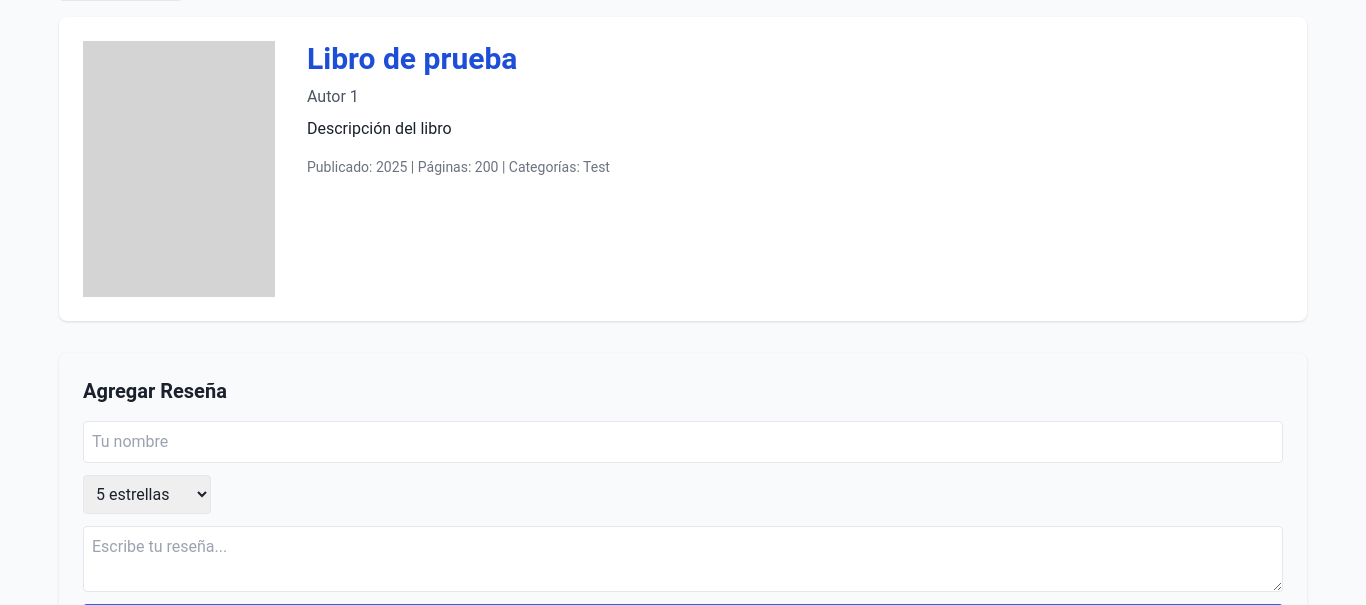
Test: BookPage reseñas › permite dar like a una reseña
The width and height of the screenshot is (1366, 605).
// Agregar reseña
Type "Ana" into the field with placeholder "Tu nombre" at (683, 442), box x1=83 y1=421 x2=1283 y2=463
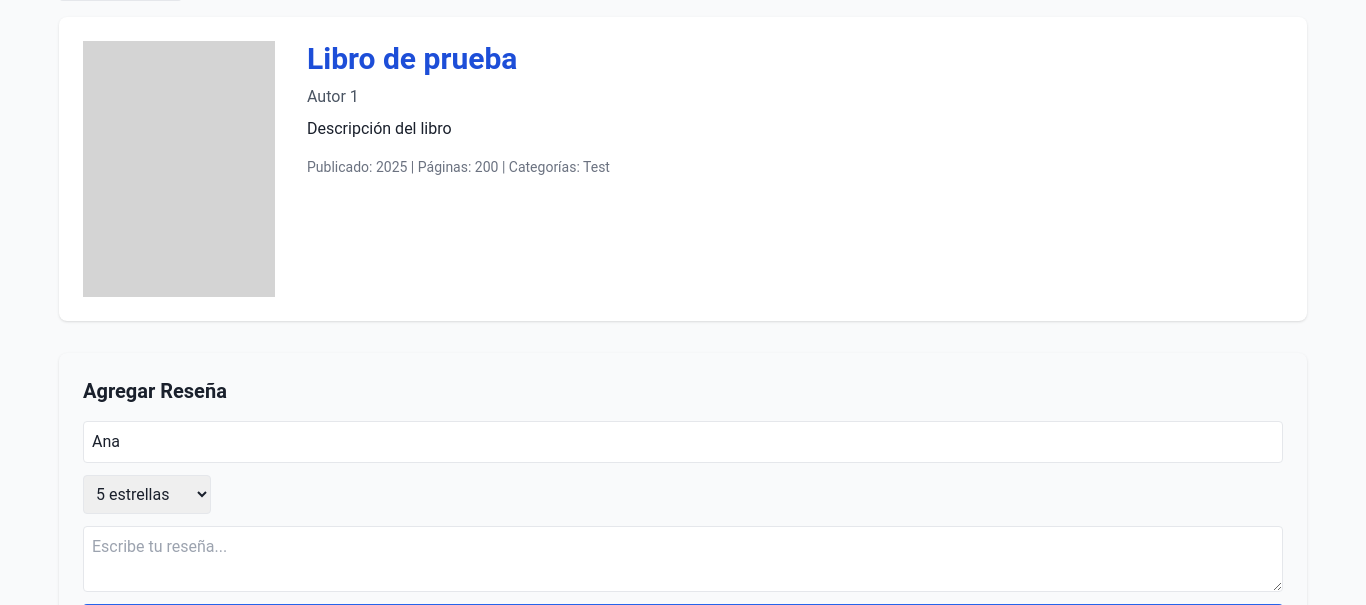
Type "Excelente!" into the text box with placeholder "Escribe tu reseña..." at (683, 559), box x1=83 y1=526 x2=1283 y2=592
(page scrolled)
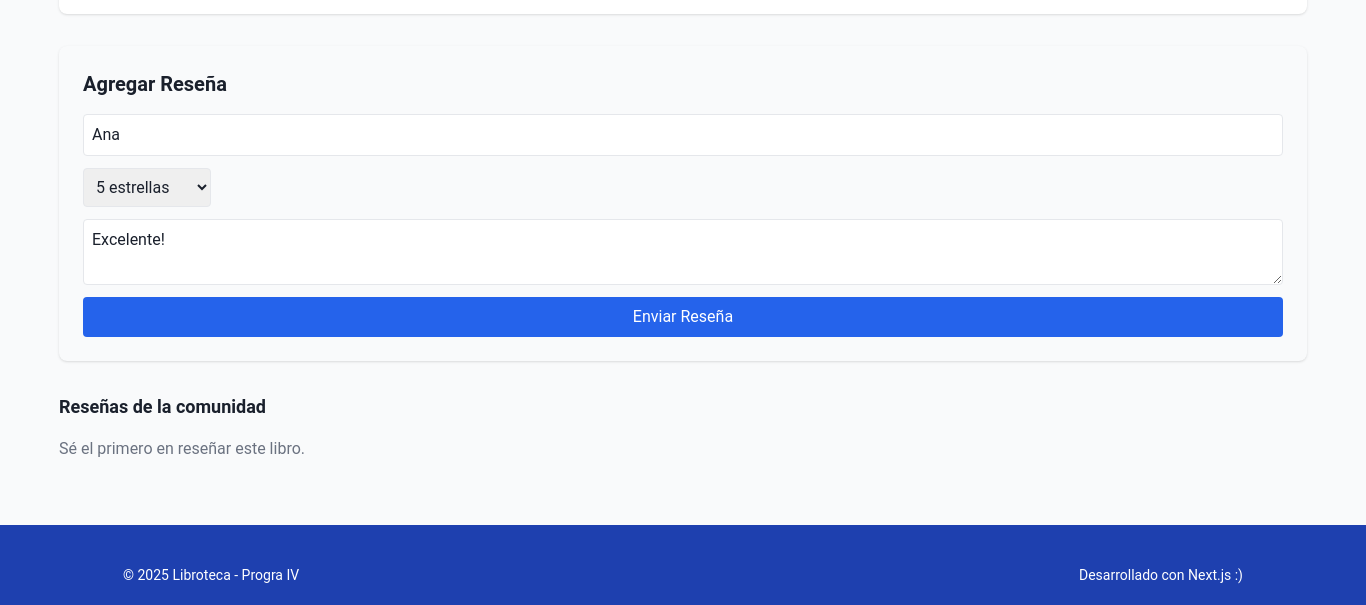
Click the button "Enviar Reseña" at (683, 317), box x1=83 y1=297 x2=1283 y2=337
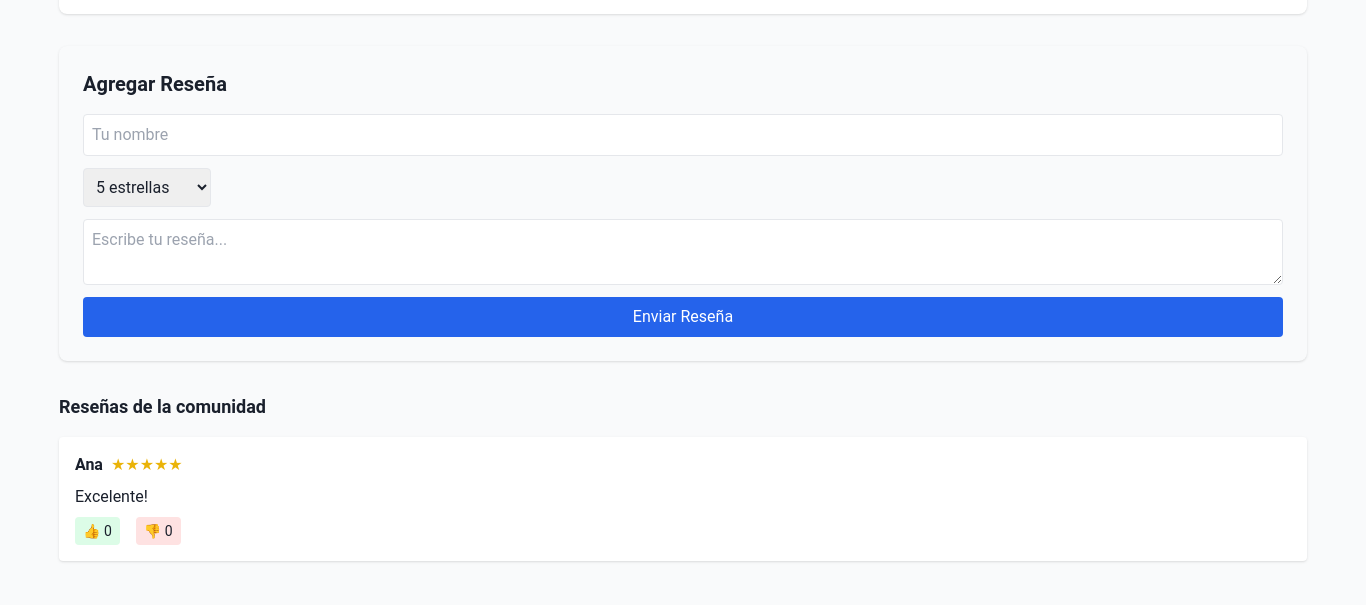
// Dar like
Click the button "👍 0" at (97, 531), box x1=75 y1=517 x2=120 y2=545
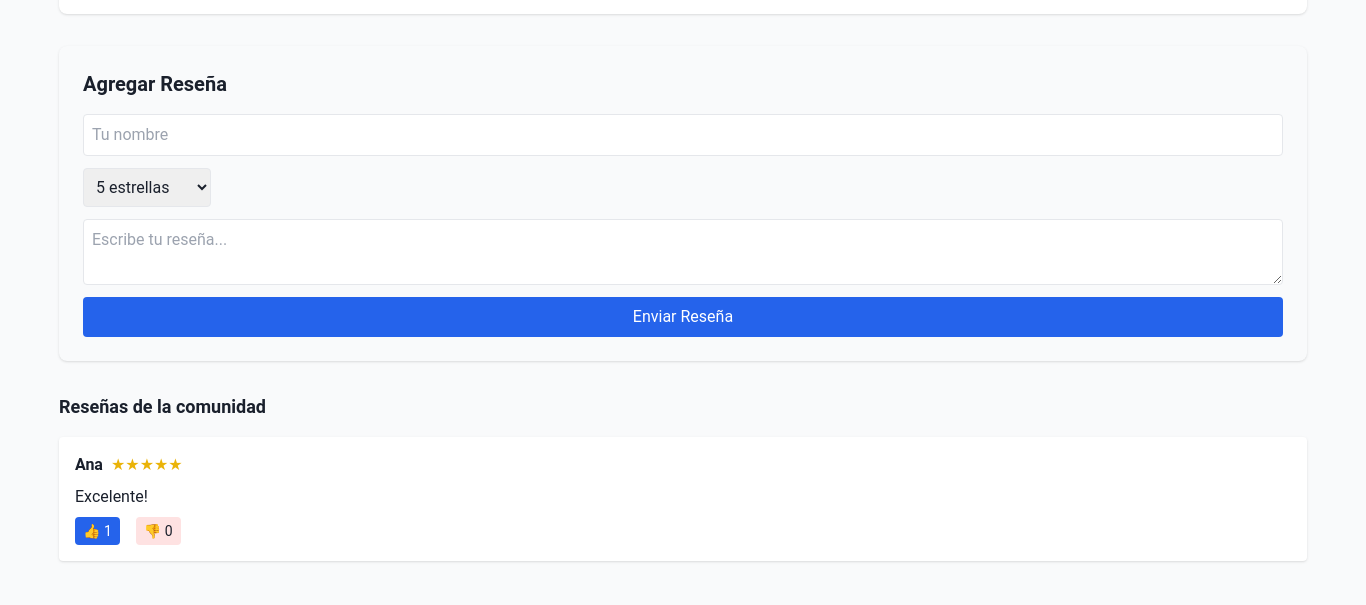
Expected: the button "👍 1" is shown, x1=75 y1=517 x2=120 y2=545
